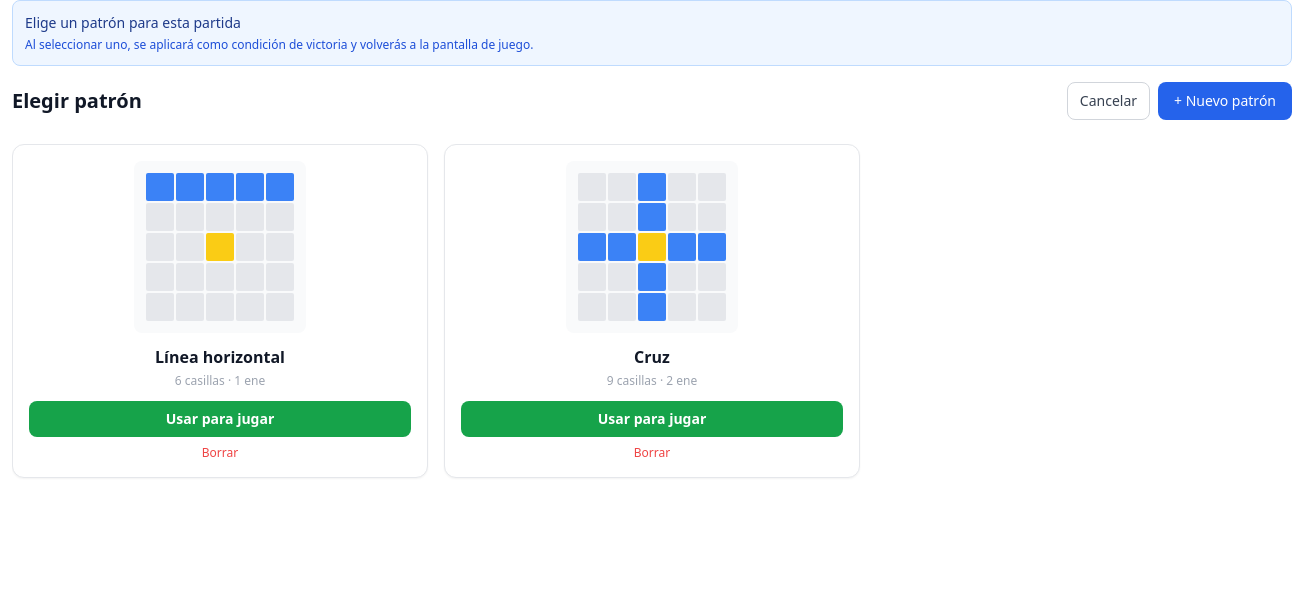
EditorPatrones — modo selección (volverAJugar) › en vista crear el botón principal dice "Guardar y usar"
Click the button "+ Nuevo patrón": (1225, 101) [1158, 82, 1292, 120]
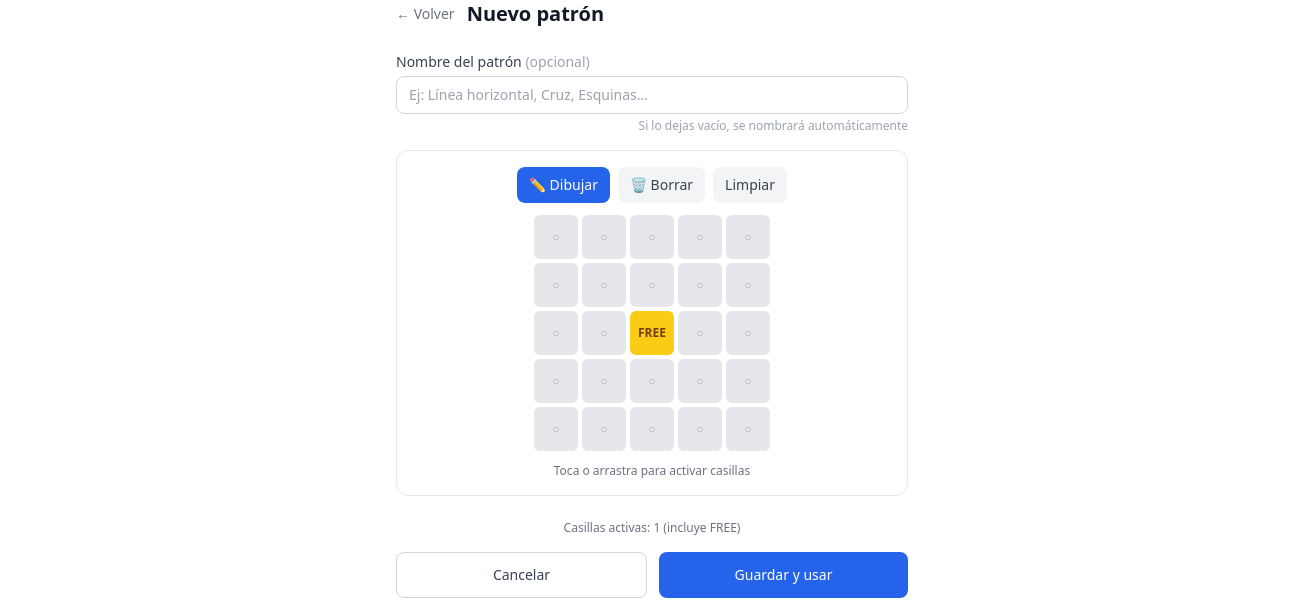
Result: the button "Guardar y usar" is shown at [659, 552, 908, 598]
